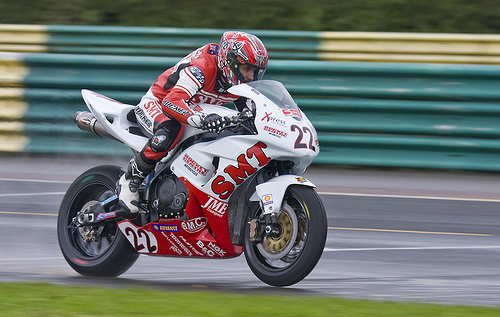helmet: (218, 38, 272, 85)
